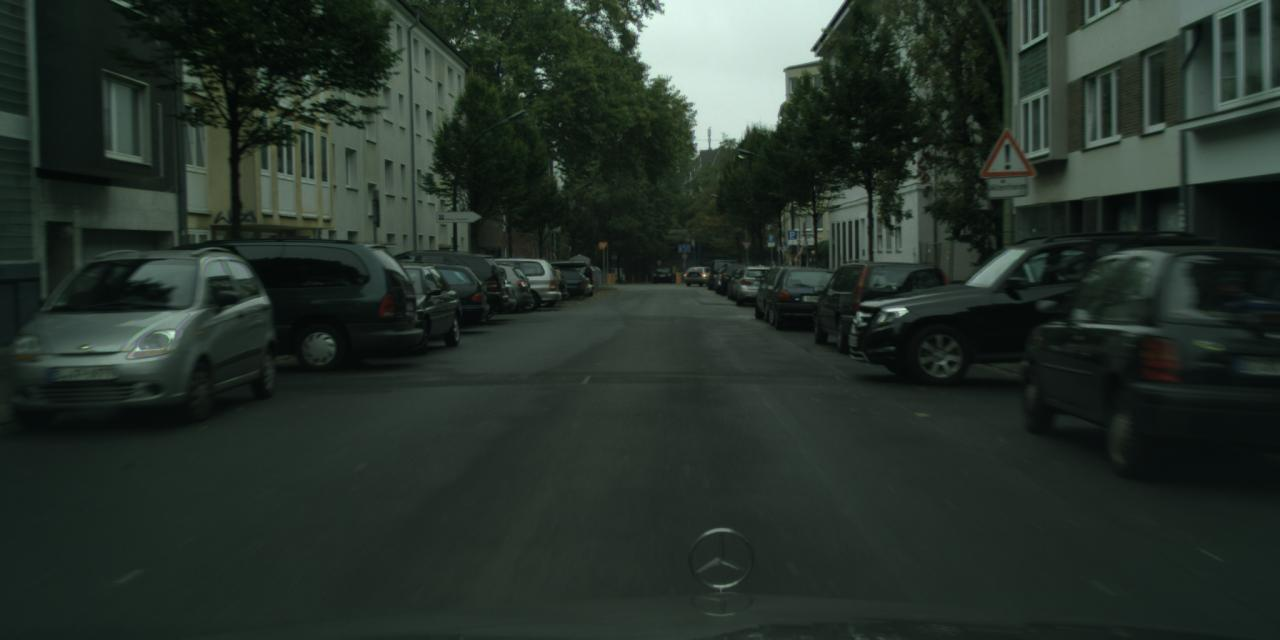ped: (582, 264, 594, 296)
